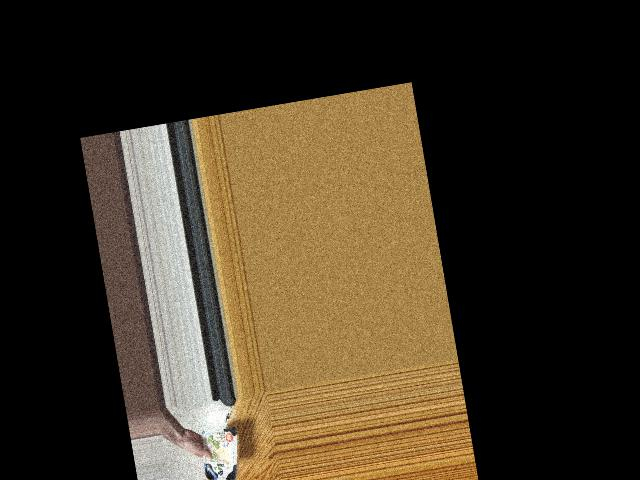cheese: (200, 430, 238, 480)
